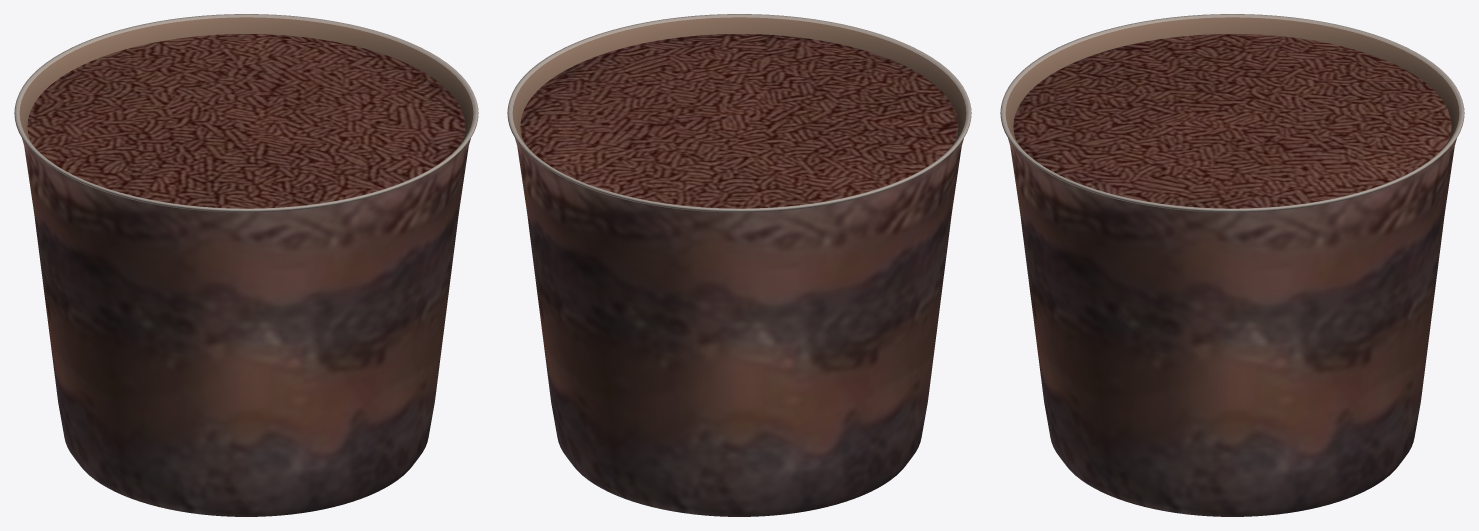
The model's file is bolo-de-pote.glb.
3 views of the same model, side by side, from view 1: azimuth 30°, elevation 25°; view 2: azimuth 150°, elevation 25°; view 3: azimuth 270°, elevation 25° (orthographic).
Visible parts, largest first — view 1: bolo-de-pote; view 2: bolo-de-pote; view 3: bolo-de-pote.
Part boxes in pixels (x1,y1,x2,y2): bolo-de-pote: [14, 14, 478, 516]; bolo-de-pote: [507, 14, 971, 516]; bolo-de-pote: [1000, 14, 1464, 516].
Bounding box in the file's own units: 0.089 × 0.0703 × 0.089.
5 materials, 2 textured.
